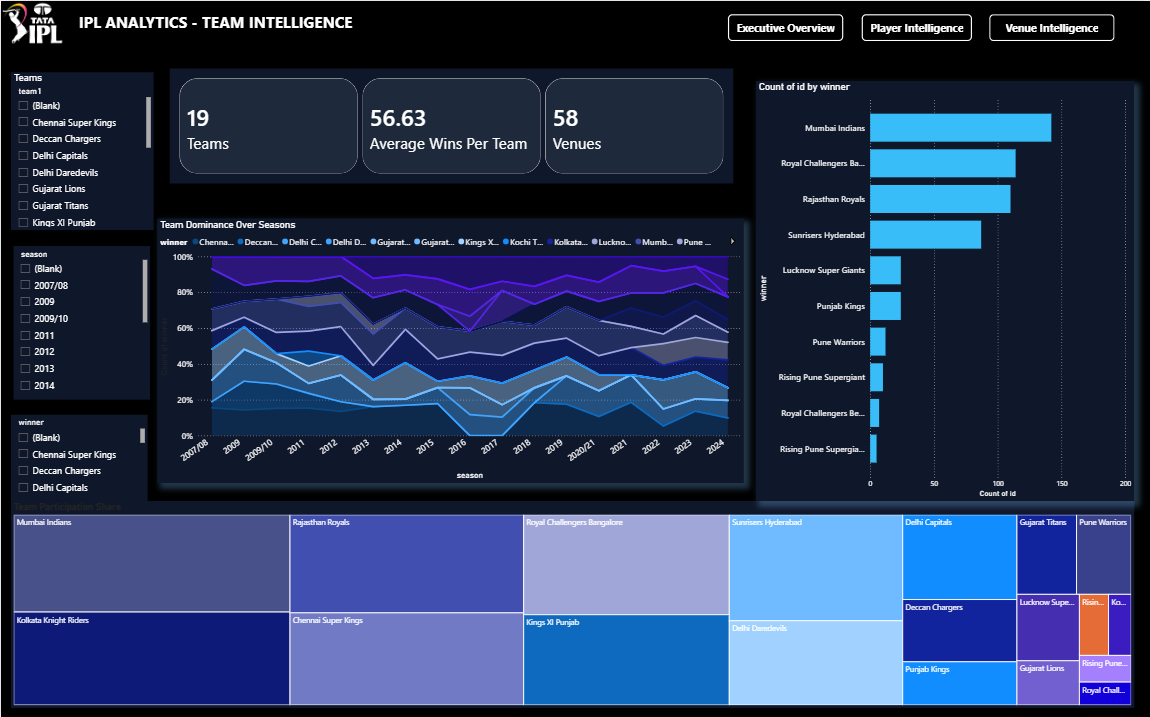

Layout of this report page (visuals, bound fields, positions):
{"tool":"powerbi","page":{"name":"Team Intelligence","canvas":[2000,1250],"ordinal":1},"visuals":[{"type":"actionButton","box":[1257.8,17.5,212.5,58.8],"z":0},{"type":"actionButton","box":[1490.3,17.5,203.8,58.8],"z":1000},{"type":"actionButton","box":[1714,17.5,230,58.8],"z":2000},{"type":"image","box":[0,0,115,76.7],"z":3000},{"type":"textbox","box":[130,13.3,525,48.3],"z":4000},{"type":"treemap","title":"Team Participation Share","fields":{"Values":["CountNonNull(ipl_analytics matches.id)"],"Group":["ipl_analytics matches.team2","ipl_analytics matches.team1"]},"box":[16.7,870,1953.3,360],"z":5000},{"type":"barChart","fields":{"Category":["ipl_analytics matches.winner"],"Y":["CountNonNull(ipl_analytics matches.id)"]},"box":[1312.5,140,657.5,730],"z":6000},{"type":"hundredPercentStackedAreaChart","title":"Team Dominance Over Seasons","fields":{"Category":["ipl_analytics matches.season"],"Series":["ipl_analytics matches.winner"],"Y":["CountNonNull(ipl_analytics matches.winner)"]},"box":[272.5,377.5,1020,460],"z":7000},{"type":"slicer","title":"Teams","fields":{"Values":["ipl_analytics matches.team1"]},"box":[18,124,248,274],"z":8000},{"type":"slicer","fields":{"Values":["ipl_analytics matches.season"]},"box":[22.5,425,237.5,267.5],"z":9000},{"type":"cardVisual","fields":{"Data":["ipl_analytics matches.Teams","ipl_analytics matches.Average Wins Per Team","ipl_analytics matches.Venues"]},"box":[293.3,118.3,980,200],"z":10000},{"type":"slicer","fields":{"Values":["ipl_analytics matches.winner"]},"box":[17.5,720,237.5,150],"z":11000}]}

Visuals, with their boxes in screenshot pixels (x1, y1, x2, y2), scaled from the page's 2000x1250 canvas onto the 1150x717 screenshot:
actionButton: <bbox>723, 10, 845, 44</bbox>
actionButton: <bbox>857, 10, 974, 44</bbox>
actionButton: <bbox>986, 10, 1118, 44</bbox>
image: <bbox>0, 0, 66, 44</bbox>
textbox: <bbox>75, 8, 377, 35</bbox>
"Team Participation Share" treemap: <bbox>10, 499, 1133, 706</bbox>
barChart - ipl_analytics matches.winner x CountNonNull(ipl_analytics matches.id): <bbox>755, 80, 1133, 499</bbox>
"Team Dominance Over Seasons" hundredPercentStackedAreaChart: <bbox>157, 217, 743, 480</bbox>
"Teams" slicer: <bbox>10, 71, 153, 228</bbox>
slicer - ipl_analytics matches.season: <bbox>13, 244, 150, 397</bbox>
cardVisual - ipl_analytics matches.Teams x ipl_analytics matches.Average Wins Per Team: <bbox>169, 68, 732, 183</bbox>
slicer - ipl_analytics matches.winner: <bbox>10, 413, 147, 499</bbox>
